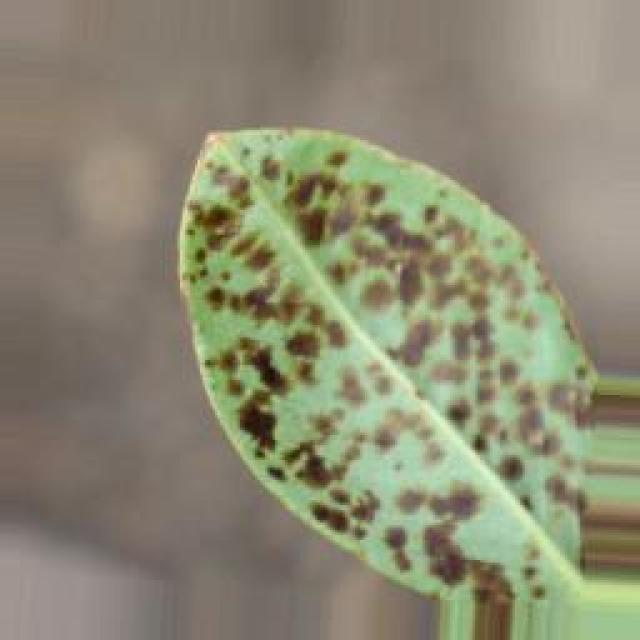Whitefly: (163, 102, 589, 612)
